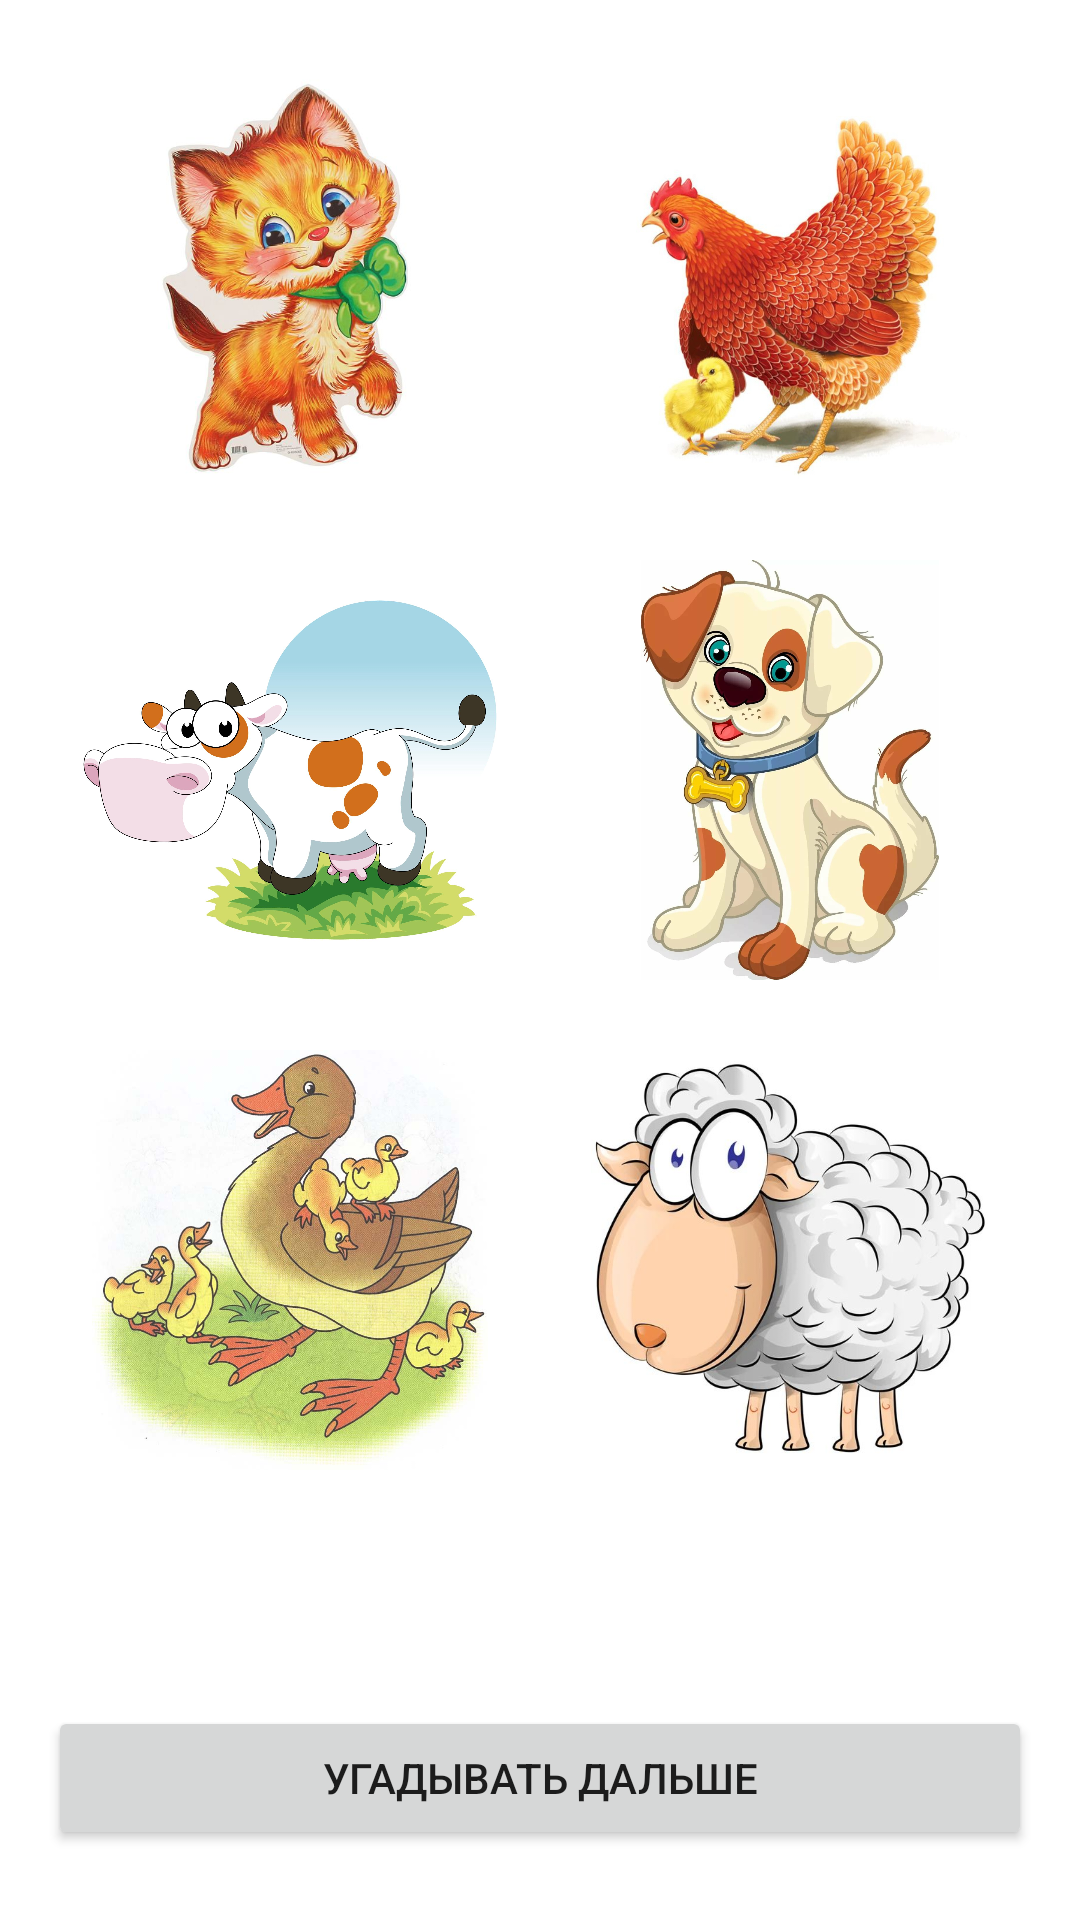

Locate icon controls on the screen. Image size 1080w x 1920h, boxes as BBox(x1, y1, x2, y2).
chicken: BBox(641, 119, 937, 474)
